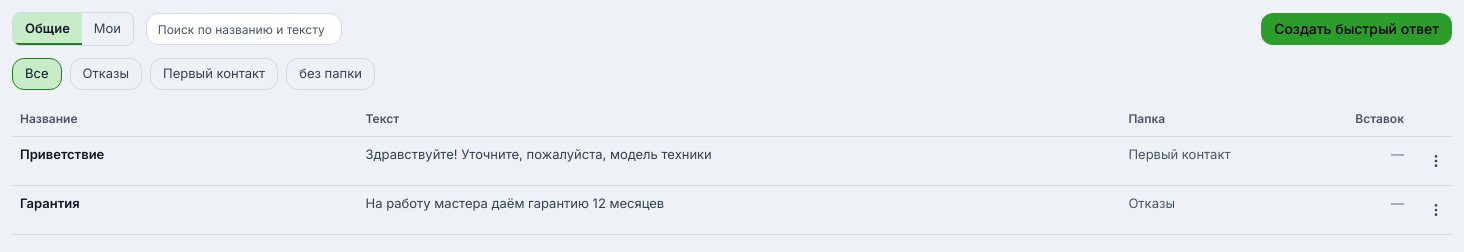
Test case: Быстрые ответы — фильтры и пустое состояние › папка «Общих» не уезжает во вкладку «Мои» невидимым фильтром
expect the table is shown: met, box x1=12 y1=102 x2=1452 y2=235
Note: Папка «Отказы» есть только у общих быстрых ответов.
Step 1. Click the button "Отказы" → [106, 74], box x1=70 y1=58 x2=142 y2=90
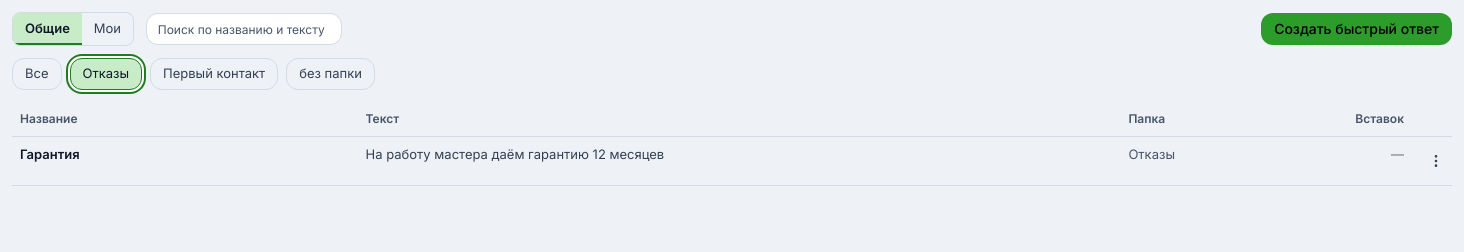
expect the text "Гарантия" is shown: met, box x1=12 y1=136 x2=358 y2=186
expect the text "Приветствие" is gone: met
Step 2. Click the tab "Мои" → [107, 29], box x1=82 y1=13 x2=133 y2=45
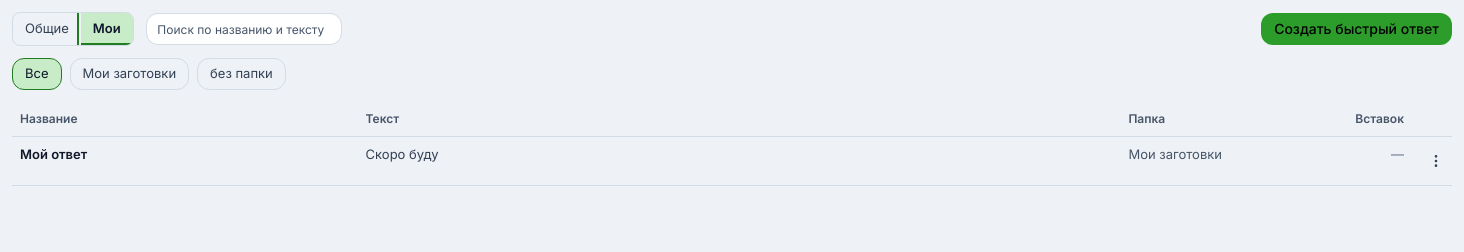
expect the text "Мой ответ" is shown: met, box x1=12 y1=136 x2=358 y2=186
